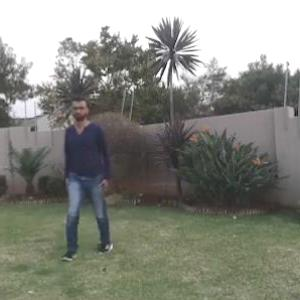follow: (64, 94, 106, 238)
